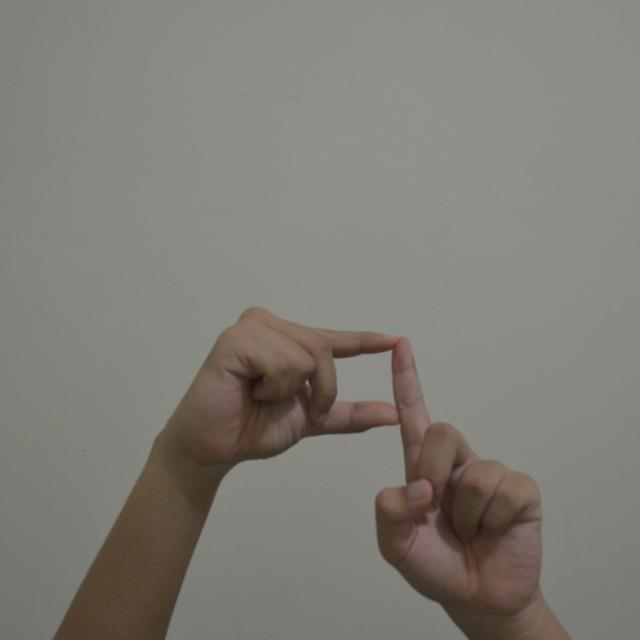P: (127, 285, 560, 622)
